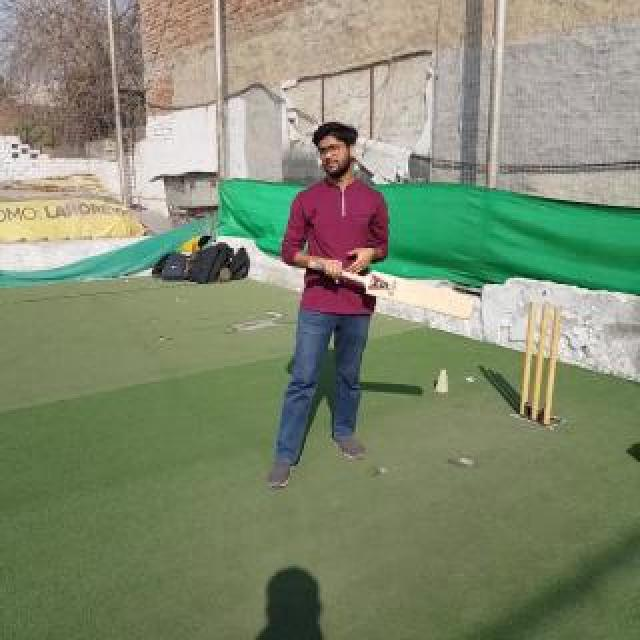bat: (308, 260, 476, 320)
